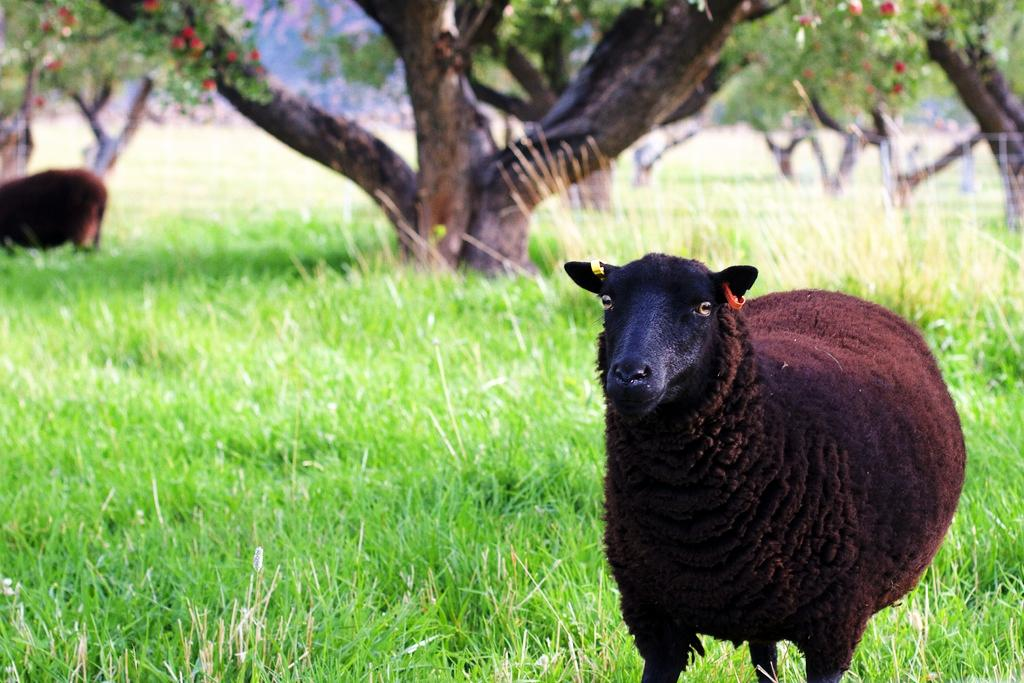Sheep: (562, 252, 967, 682)
